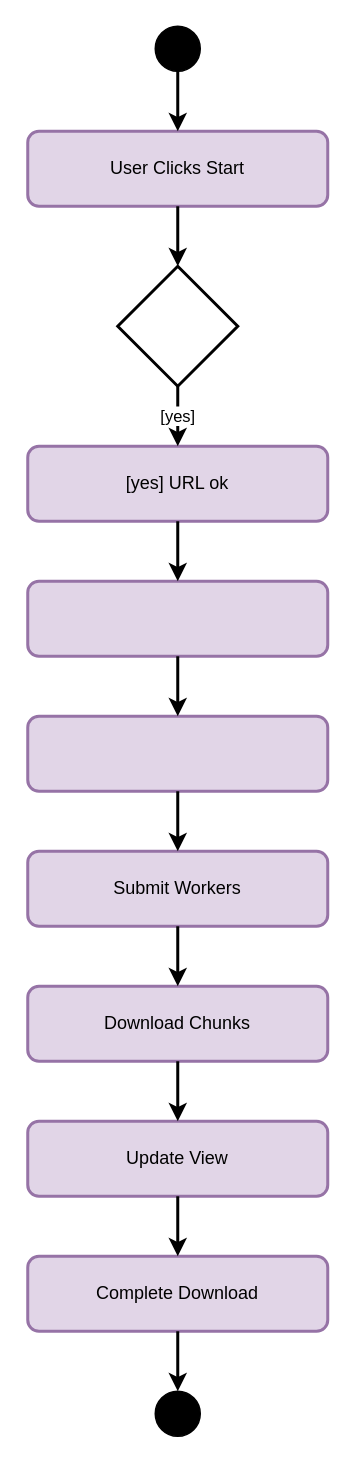
This 354x1463 diagram has some shape labels left out. The box of each missing label's shape, as (x1, y1, x2, y2) in pixels:
Extract Playlist Info: (26, 579, 328, 657)
Spawn Orchestrator: (26, 714, 328, 792)
Validate URL: (116, 264, 238, 387)
